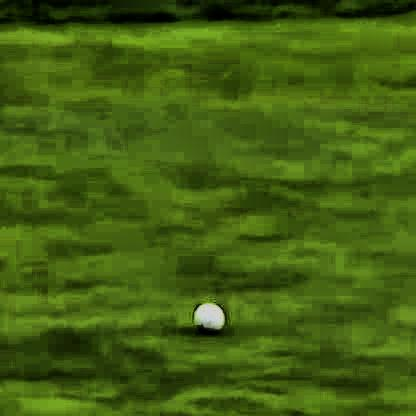golfball: (192, 298, 222, 329)
